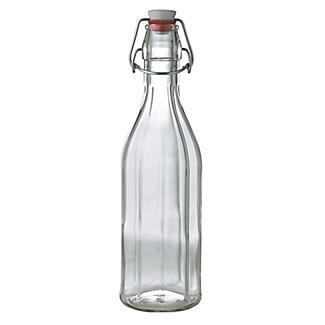glass_bottle: (113, 9, 204, 314)
